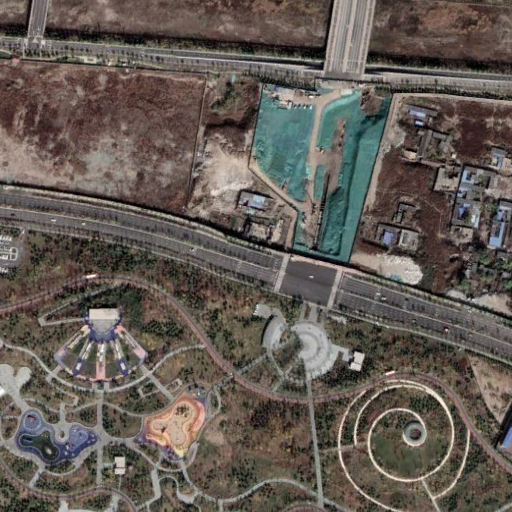cw: (249, 78, 394, 266)
